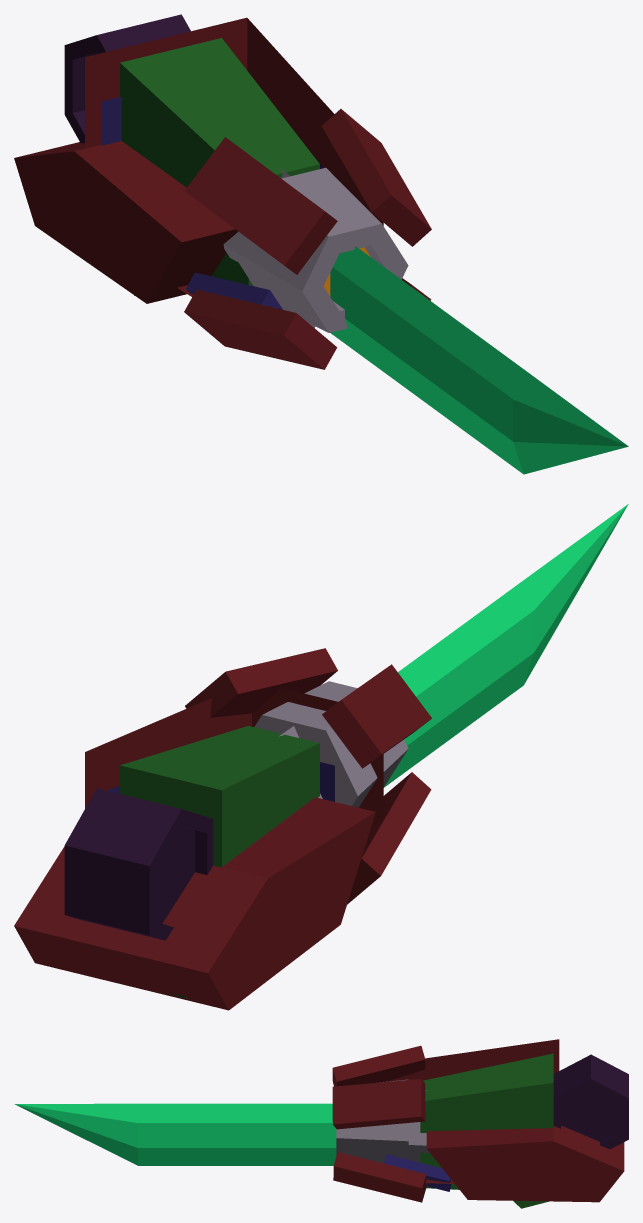
File: Low Poly Mech Weapons 1.fbx
3 renders of one model, top to bottom at view 1: azimuth 30°, elevation 25°; view 2: azimuth 150°, elevation 25°; view 3: azimuth 270°, elevation 25°, orthographic. The views are drawn at different scales.
Parts seen in each view (by area): view 1: Arm Heavy Cannon.001, Arm Blade, Arm Cannon; view 2: Arm Heavy Cannon.001, Arm Blade, Arm Cannon; view 3: Arm Heavy Cannon.001, Arm Blade, Arm Cannon.
Part boxes in pixels (left/top/right/bottom): Arm Heavy Cannon.001: left=14, top=14, right=431, bottom=369; Arm Blade: left=64, top=38, right=628, bottom=474; Arm Cannon: left=66, top=38, right=323, bottom=309; Arm Heavy Cannon.001: left=14, top=648, right=431, bottom=1010; Arm Blade: left=64, top=504, right=628, bottom=998; Arm Cannon: left=107, top=762, right=334, bottom=938; Arm Heavy Cannon.001: left=332, top=1039, right=628, bottom=1202; Arm Blade: left=14, top=1053, right=628, bottom=1208; Arm Cannon: left=384, top=1080, right=627, bottom=1191.
Size of the model in its own units: 148 by 159 by 677.
